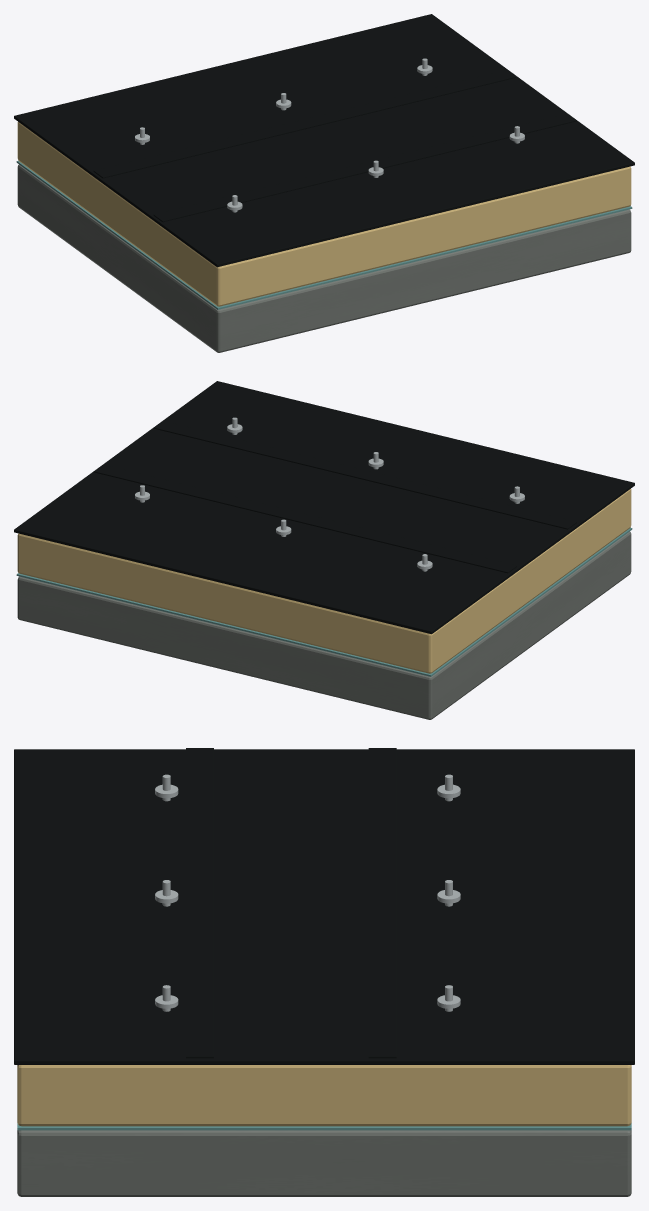
File: modell.glb
3 views of the same model, one above another, from view 1: azimuth 30°, elevation 25°; view 2: azimuth 150°, elevation 25°; view 3: azimuth 270°, elevation 25° (orthographic). The views are drawn at different scales.
Parts seen in each view (by area): view 1: g05-abdichtung_deckung, g05-untergrund_tragwerk, g05-daemmung_daemmung, g05-naht_deckung, g05-luftdichtheit_luftdichtheit, g05-halter_deckung; view 2: g05-abdichtung_deckung, g05-untergrund_tragwerk, g05-daemmung_daemmung, g05-naht_deckung, g05-luftdichtheit_luftdichtheit, g05-halter_deckung; view 3: g05-abdichtung_deckung, g05-untergrund_tragwerk, g05-daemmung_daemmung, g05-naht_deckung, g05-luftdichtheit_luftdichtheit, g05-halter_deckung, g05-anker_tragwerk.
Part boxes in pixels (x1=…): g05-abdichtung_deckung: x1=14, y1=14, x2=634, y2=267; g05-untergrund_tragwerk: x1=17, y1=164, x2=631, y2=352; g05-daemmung_daemmung: x1=17, y1=122, x2=631, y2=306; g05-naht_deckung: x1=93, y1=69, x2=576, y2=222; g05-luftdichtheit_luftdichtheit: x1=16, y1=160, x2=632, y2=309; g05-halter_deckung: x1=135, y1=65, x2=524, y2=210; g05-abdichtung_deckung: x1=14, y1=381, x2=634, y2=634; g05-untergrund_tragwerk: x1=17, y1=531, x2=631, y2=719; g05-daemmung_daemmung: x1=17, y1=489, x2=631, y2=673; g05-naht_deckung: x1=93, y1=421, x2=576, y2=573; g05-luftdichtheit_luftdichtheit: x1=16, y1=527, x2=632, y2=676; g05-halter_deckung: x1=135, y1=424, x2=524, y2=569; g05-abdichtung_deckung: x1=14, y1=749, x2=634, y2=1064; g05-untergrund_tragwerk: x1=17, y1=1130, x2=631, y2=1196; g05-daemmung_daemmung: x1=17, y1=1065, x2=631, y2=1126; g05-naht_deckung: x1=186, y1=748, x2=396, y2=1058; g05-luftdichtheit_luftdichtheit: x1=17, y1=1123, x2=631, y2=1130; g05-halter_deckung: x1=155, y1=784, x2=460, y2=1008; g05-anker_tragwerk: x1=162, y1=774, x2=452, y2=1011.
Size of the model in its own units: 2.22 by 0.54 by 1.87.
5 materials, 1 textured.
